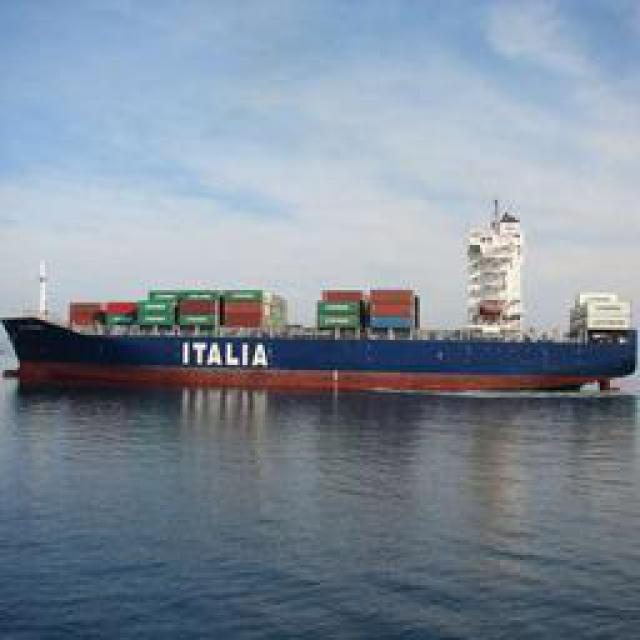Ship: (5, 279, 635, 389)
